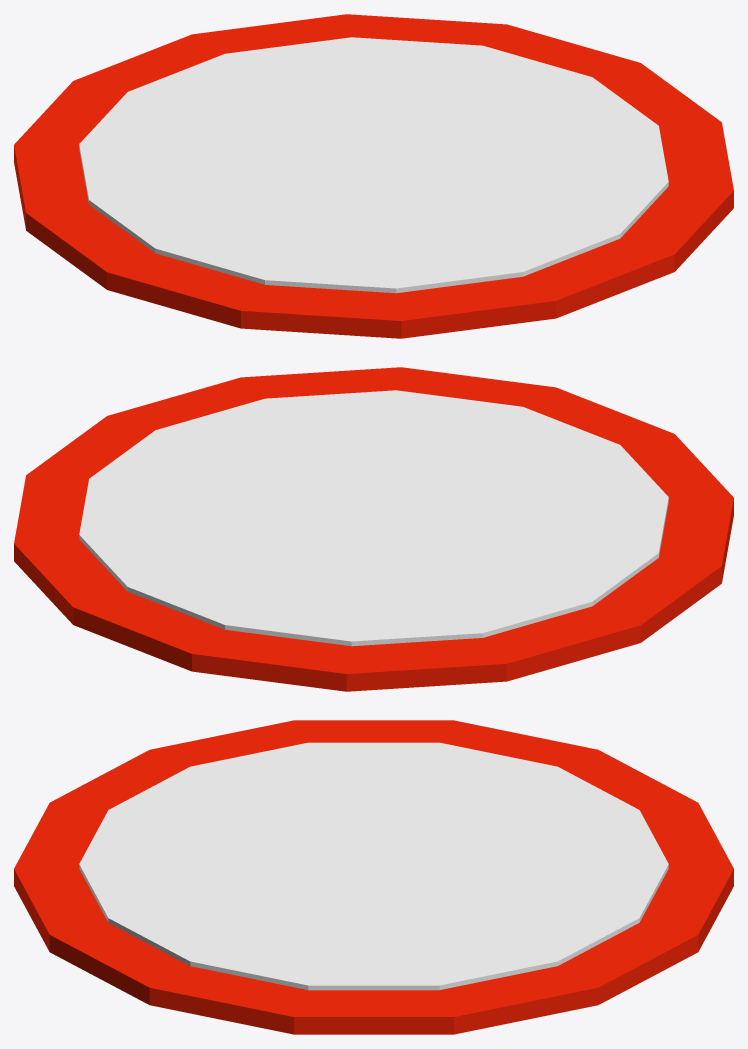
File: feld.fbx
3 renders of one model, top to bottom at view 1: azimuth 30°, elevation 25°; view 2: azimuth 150°, elevation 25°; view 3: azimuth 270°, elevation 25°, orthographic.
Visible parts, largest first — view 1: Feld; view 2: Feld; view 3: Feld.
Boxes of the visible parts, bbox=[...] form: Feld: bbox=[14, 14, 733, 338]; Feld: bbox=[14, 367, 733, 691]; Feld: bbox=[14, 720, 733, 1034].
Size of the model in its own units: 195 by 6.8 by 200.
